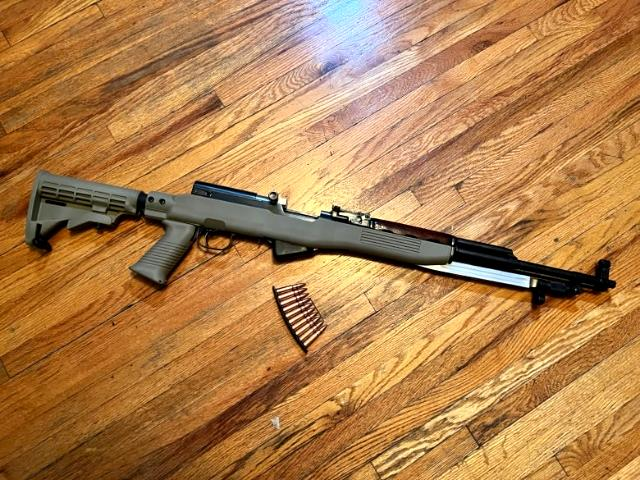rifle: (26, 156, 616, 352)
